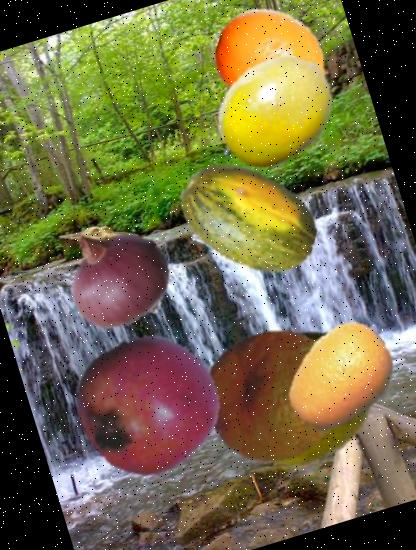Guava: (223, 316, 394, 488)
Kumquats: (270, 306, 412, 448)
Lemon: (201, 0, 345, 131)
Mandarine: (188, 308, 362, 482)
Maracuja: (195, 33, 354, 191)
Melon: (160, 128, 337, 305)
Onion: (43, 204, 195, 356)
Pomegranate: (60, 315, 238, 494)
